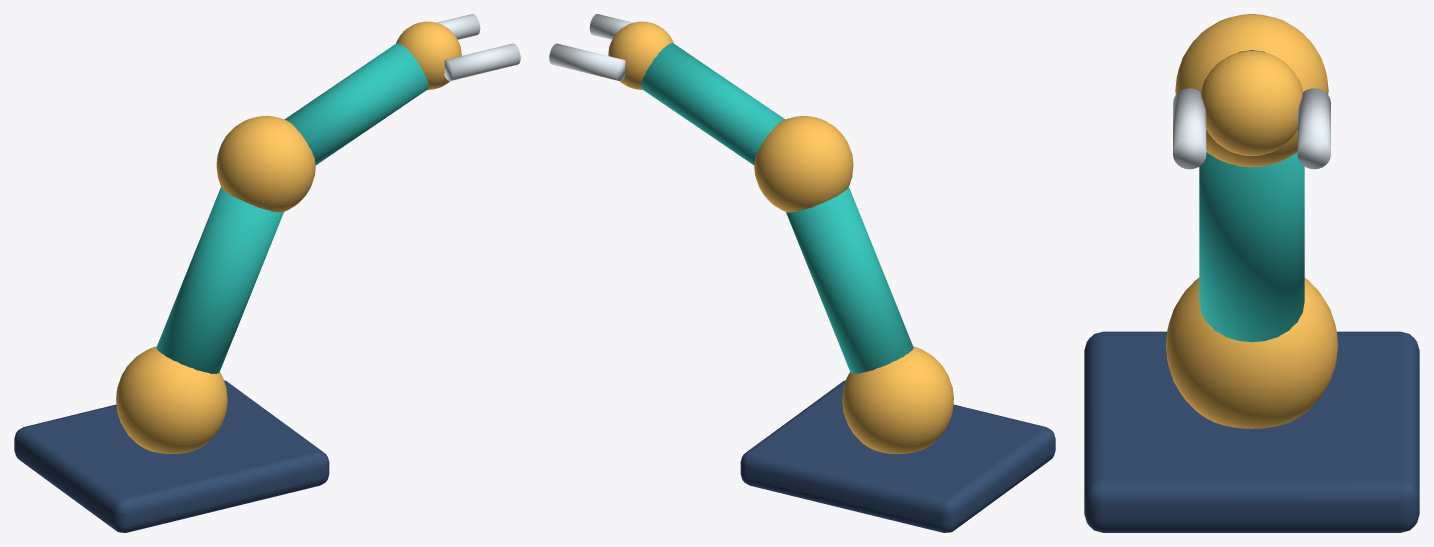
File: robotic-arm-quality.glb
3 renders of one model, left to right at view 1: azimuth 30°, elevation 25°; view 2: azimuth 150°, elevation 25°; view 3: azimuth 270°, elevation 25°, orthographic. The views are drawn at different scales.
Parts seen in each view (by area): view 1: Base; view 2: Base; view 3: Base.
Part boxes in pixels (x1,y1,x2,y2): Base: (14,14,520,532); Base: (549,14,1055,532); Base: (1084,14,1419,532).
Size of the model in its own units: 1.6 by 1.37 by 0.7.
